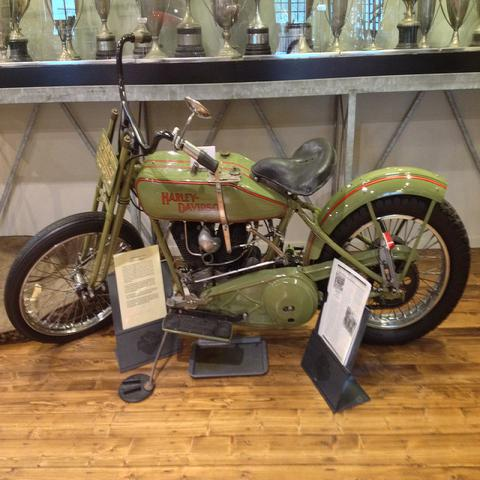motorcycle: (7, 26, 470, 402)
